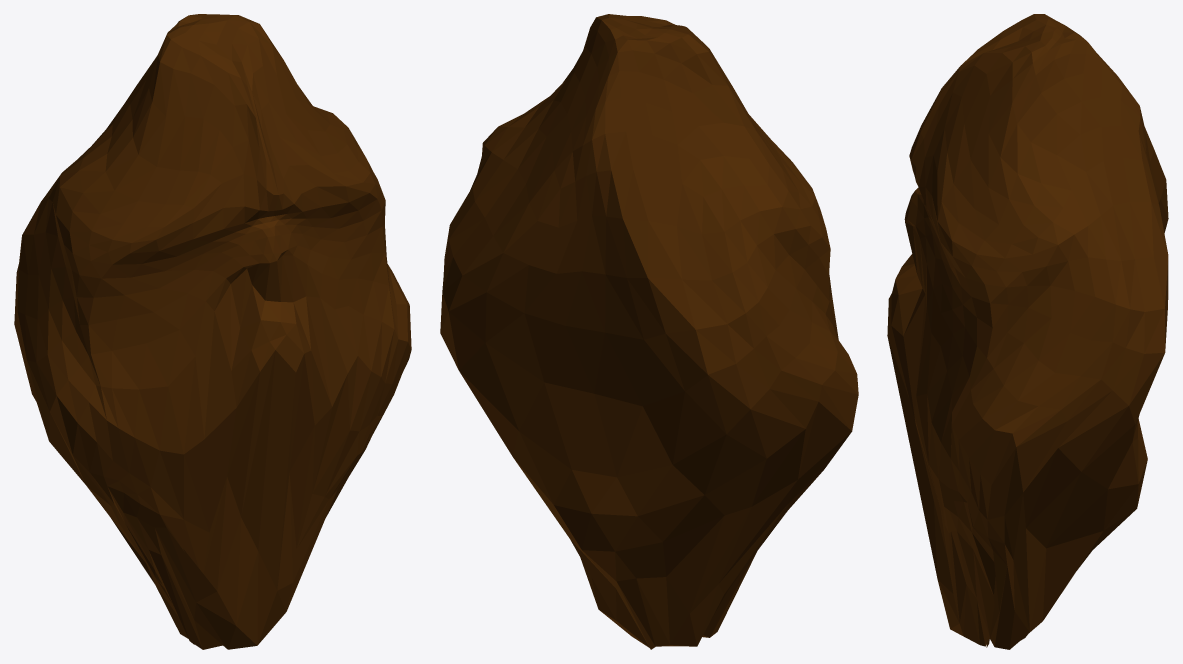
File: Asteroid2.fbx
The picture shows the model from 3 angles, left to right: view 1: azimuth 30°, elevation 25°; view 2: azimuth 150°, elevation 25°; view 3: azimuth 270°, elevation 25°; orthographic projection. The views are drawn at different scales.
Visible parts, largest first — view 1: Icosphere; view 2: Icosphere; view 3: Icosphere.
Boxes of the visible parts, <box> form: Icosphere: <box>14,14,411,649</box>; Icosphere: <box>440,14,858,649</box>; Icosphere: <box>887,14,1168,649</box>.
Size of the model in its own units: 1356 by 2130 by 891.
